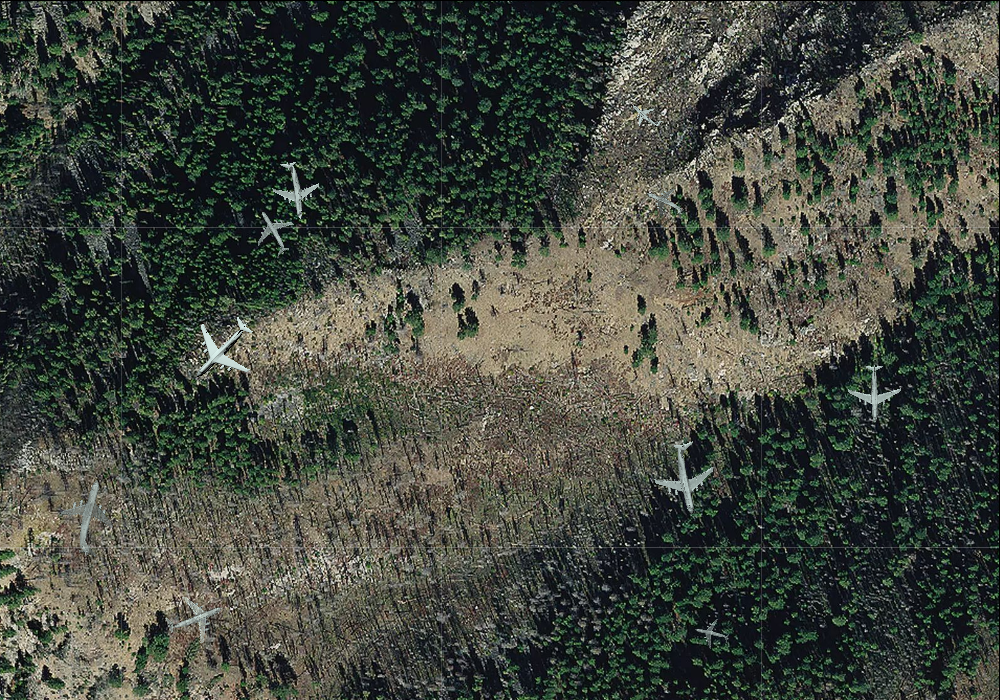plane: (171, 299, 271, 399), (48, 472, 133, 563), (646, 435, 727, 520), (157, 581, 232, 654), (241, 200, 304, 264), (263, 157, 324, 222), (847, 364, 901, 422), (638, 177, 692, 228), (624, 93, 668, 136), (691, 614, 733, 654)
